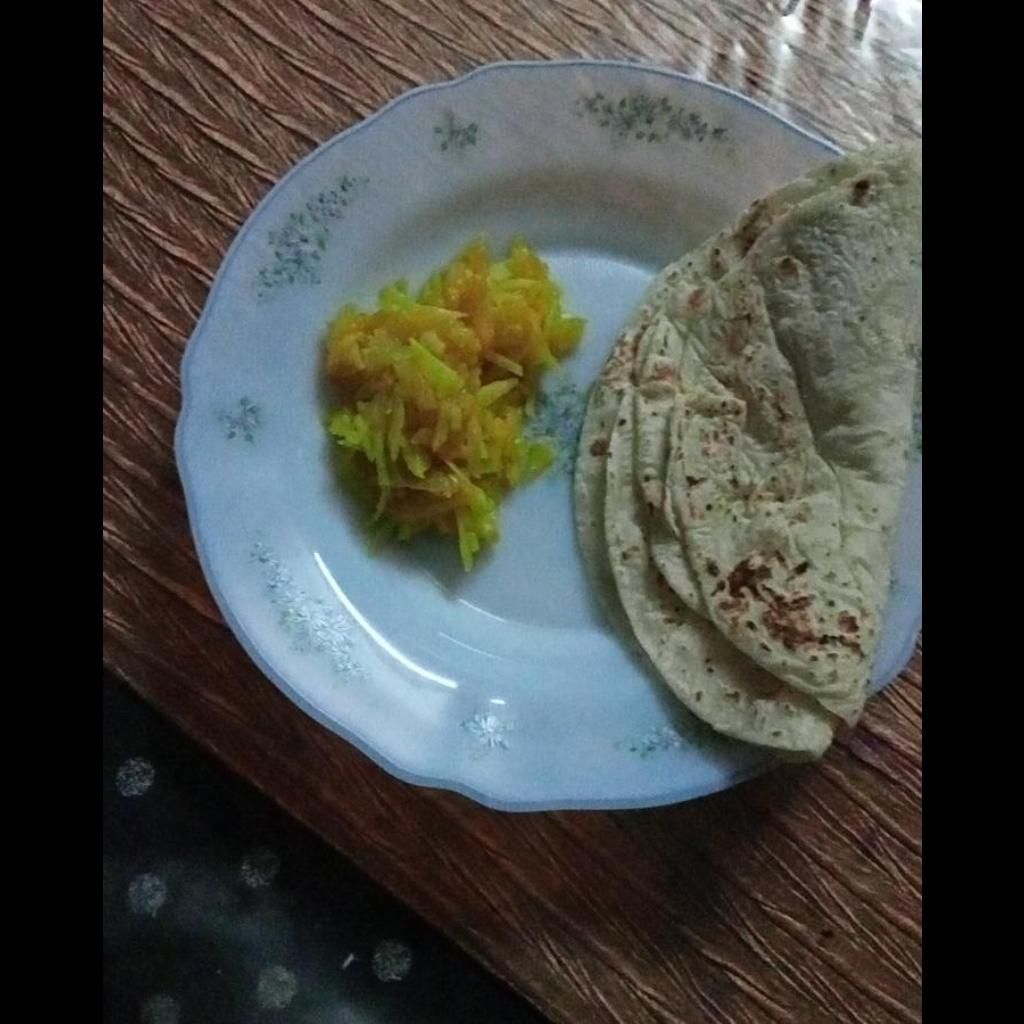ruti: (570, 131, 920, 766)
vegetable: (311, 233, 588, 571)
